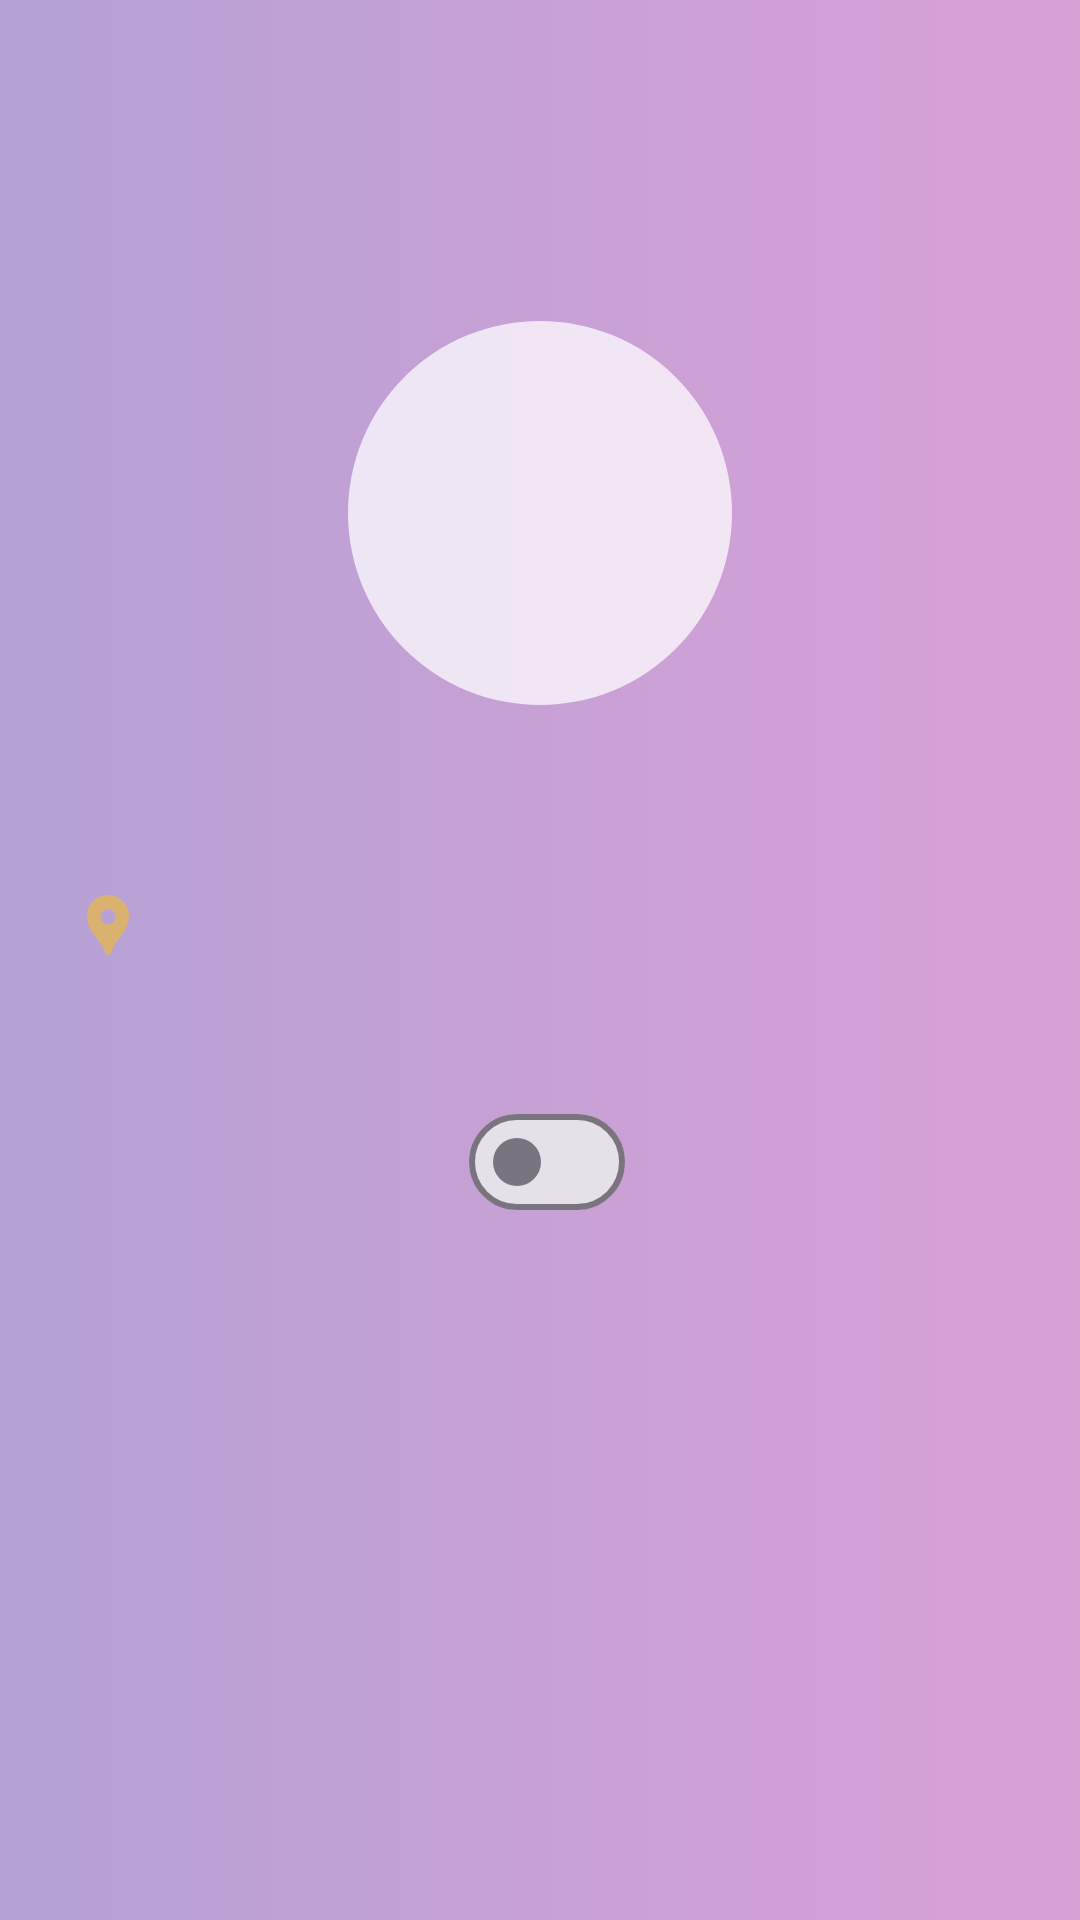

Icon click points for this 1080w x 1920h phone screenshot, format (x=x, y=y):
location: (x=108, y=925)
